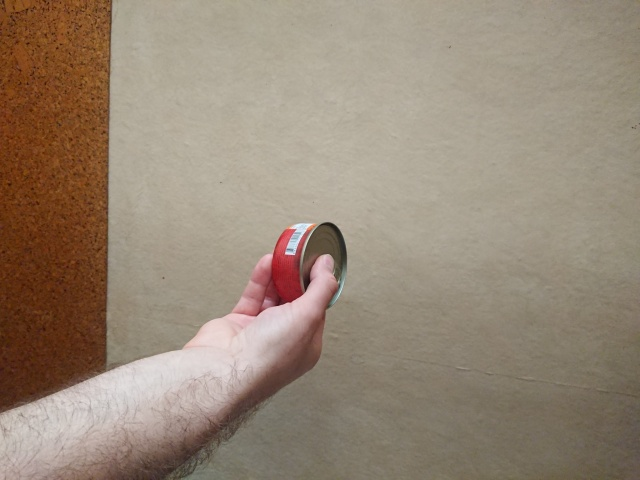Gavrilovic Pork Liver Pate 100g: (270, 220, 350, 312)
